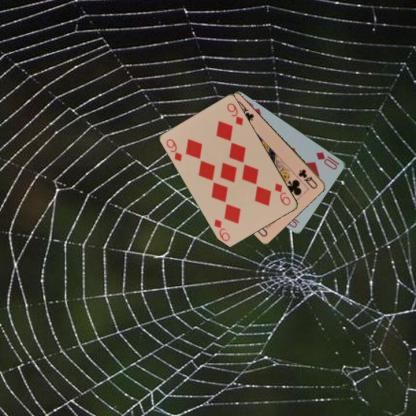10d: (314, 149, 341, 171)
9d: (272, 180, 292, 207), (164, 136, 184, 163)
Qc: (296, 166, 319, 190)
